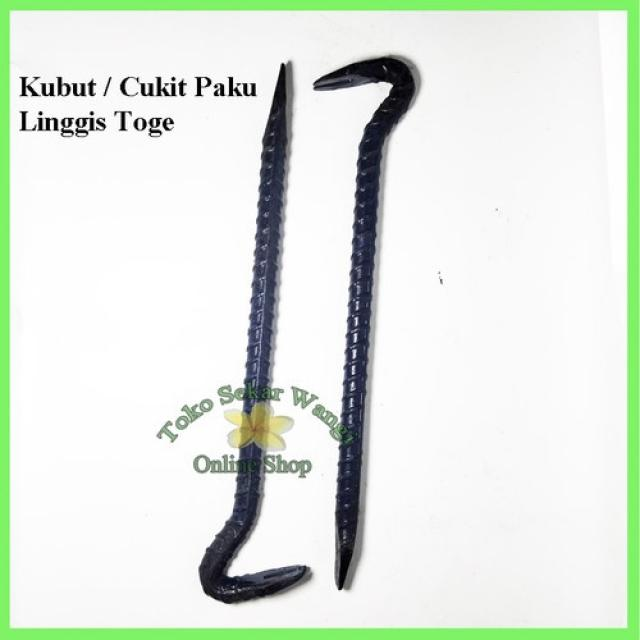Linggis: (197, 61, 310, 604)
